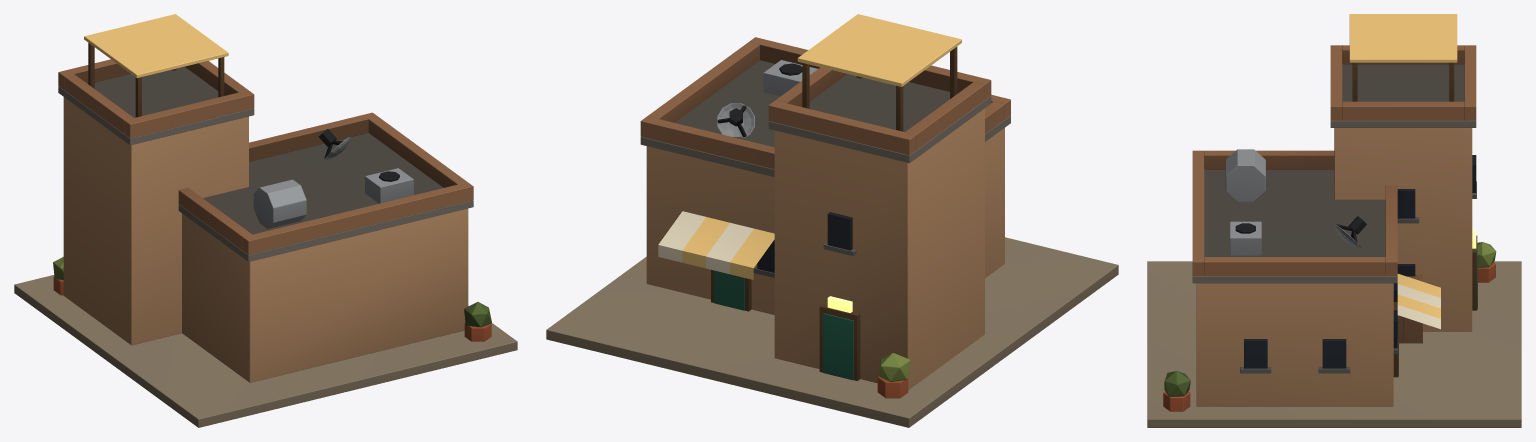
The model's file is house_b.glb.
The picture shows the model from 3 angles, left to right: view 1: azimuth 30°, elevation 25°; view 2: azimuth 150°, elevation 25°; view 3: azimuth 270°, elevation 25°; orthographic projection. The views are drawn at different scales.
Parts seen in each view (by area): view 1: house_b; view 2: house_b; view 3: house_b.
Boxes of the visible parts, x1,y1,x2,y2 form: house_b: [14, 14, 517, 427]; house_b: [546, 14, 1118, 427]; house_b: [1147, 14, 1521, 427].
Size of the model in its own units: 1.9 by 1.54 by 1.9.
